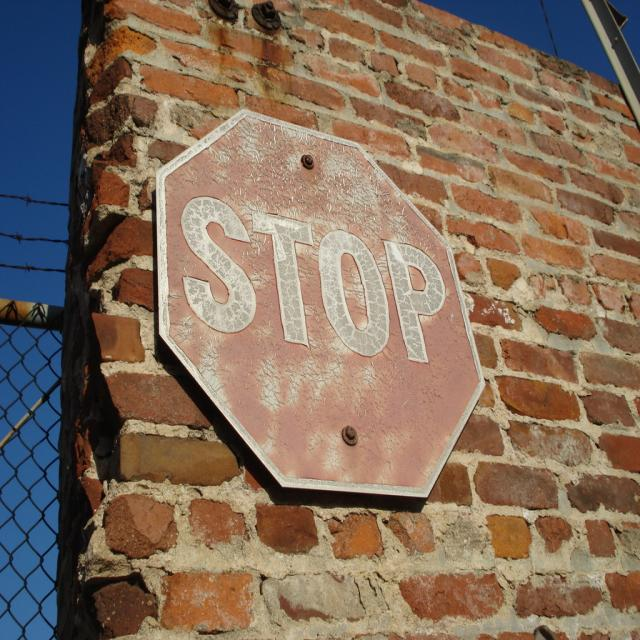Stop-sign: (158, 108, 487, 500)
